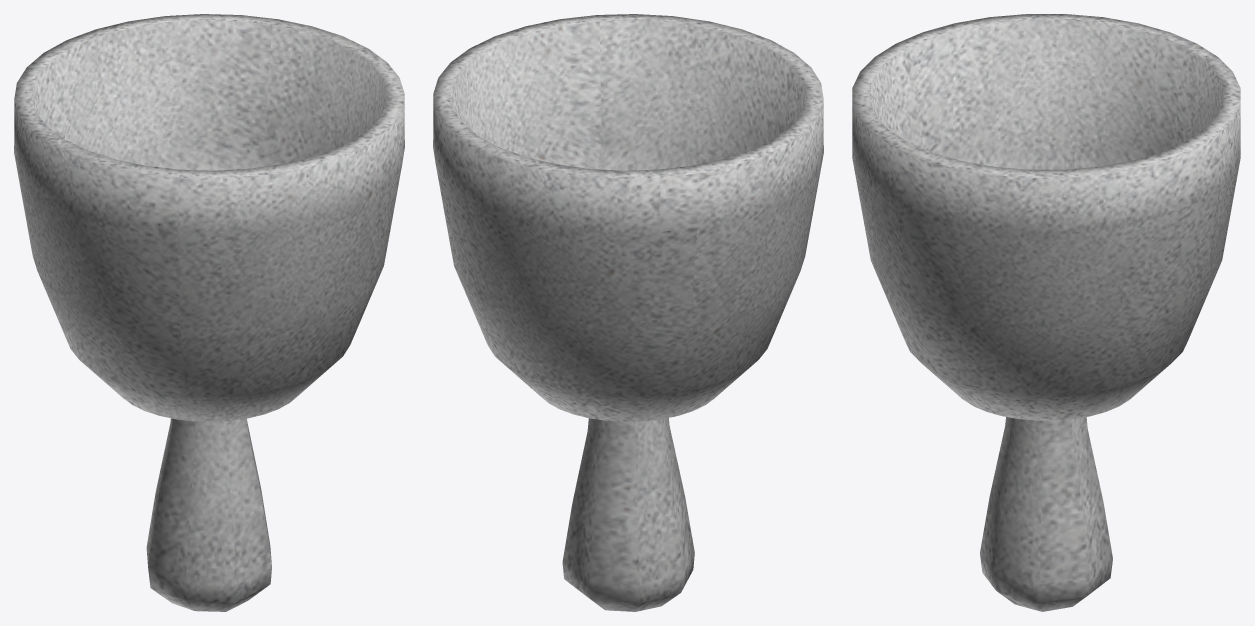
File: Bowl_Pill.fbx
3 views of the same model, side by side, from view 1: azimuth 30°, elevation 25°; view 2: azimuth 150°, elevation 25°; view 3: azimuth 270°, elevation 25° (orthographic).
Visible parts, largest first — view 1: Bowl_Pill, Bowl_02; view 2: Bowl_Pill, Bowl_02; view 3: Bowl_Pill, Bowl_02.
Boxes of the visible parts, bbox=[...] form: Bowl_Pill: bbox=[14, 14, 404, 421]; Bowl_02: bbox=[146, 418, 271, 611]; Bowl_Pill: bbox=[433, 14, 823, 421]; Bowl_02: bbox=[562, 418, 694, 611]; Bowl_Pill: bbox=[852, 14, 1240, 420]; Bowl_02: bbox=[980, 417, 1112, 611].
Size of the model in its own units: 0.0877 by 0.1269 by 0.0877.
